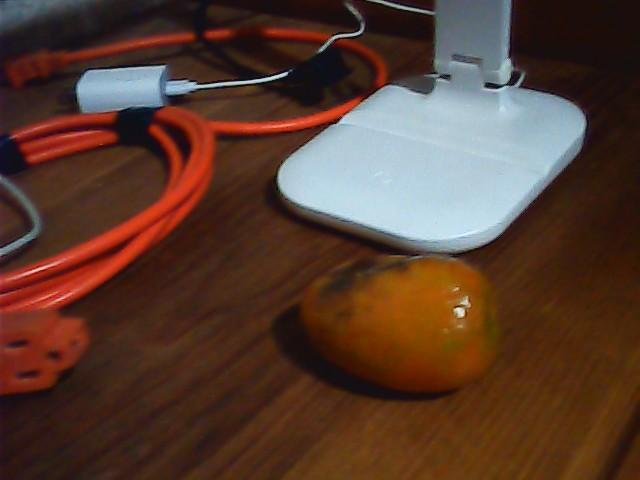defectuoso: (294, 252, 496, 397)
